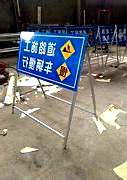sign: (21, 34, 84, 92)
